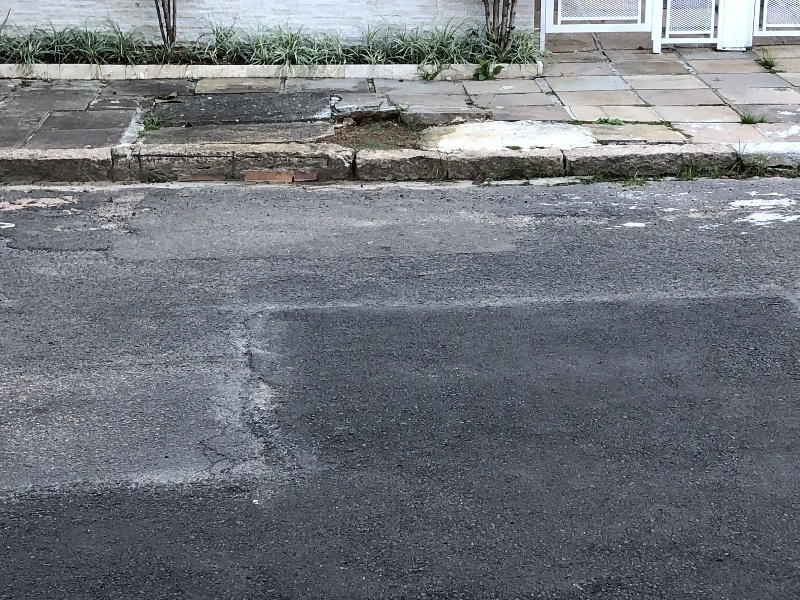v42: (5, 111, 730, 214)
